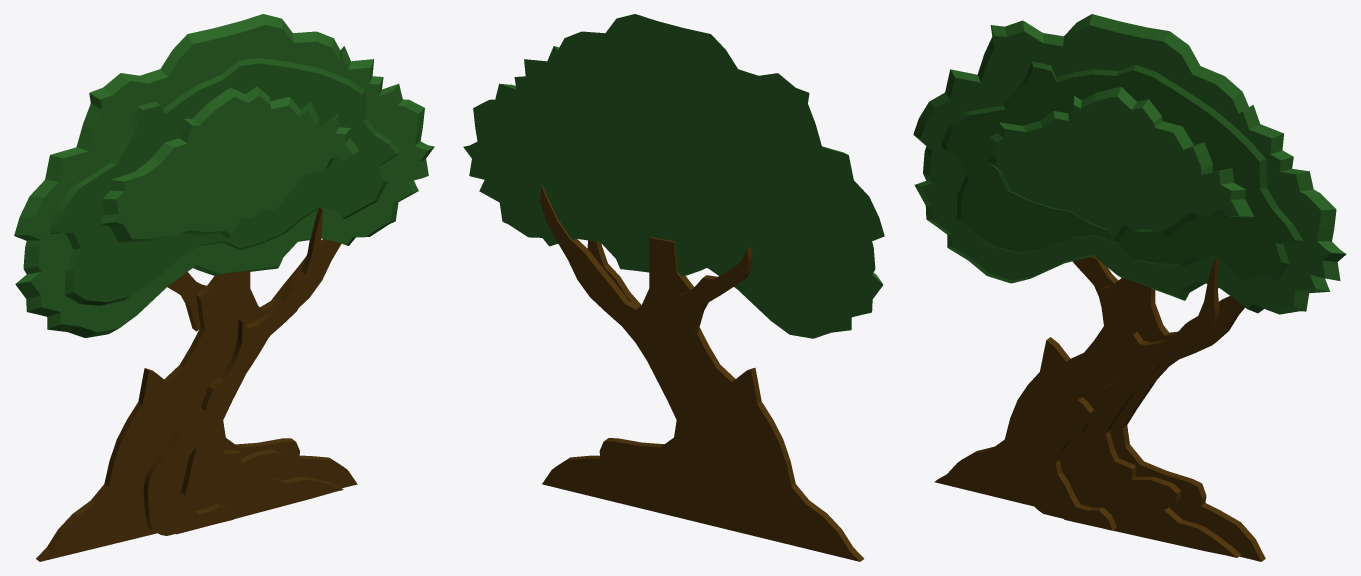
File: Tree_05.fbx
3 views of the same model, side by side, from view 1: azimuth 30°, elevation 25°; view 2: azimuth 150°, elevation 25°; view 3: azimuth 330°, elevation 25° (orthographic). The views are drawn at different scales.
Parts seen in each view (by area): view 1: Trees0_5:tree_4; view 2: Trees0_5:tree_4; view 3: Trees0_5:tree_4.
Boxes of the visible parts, box(x1,y1,x2,y2) form: Trees0_5:tree_4: box(14, 14, 434, 561); Trees0_5:tree_4: box(463, 14, 884, 561); Trees0_5:tree_4: box(913, 14, 1346, 561).
Bounding box in the file's own units: 53.15 × 59.39 × 4.31.
